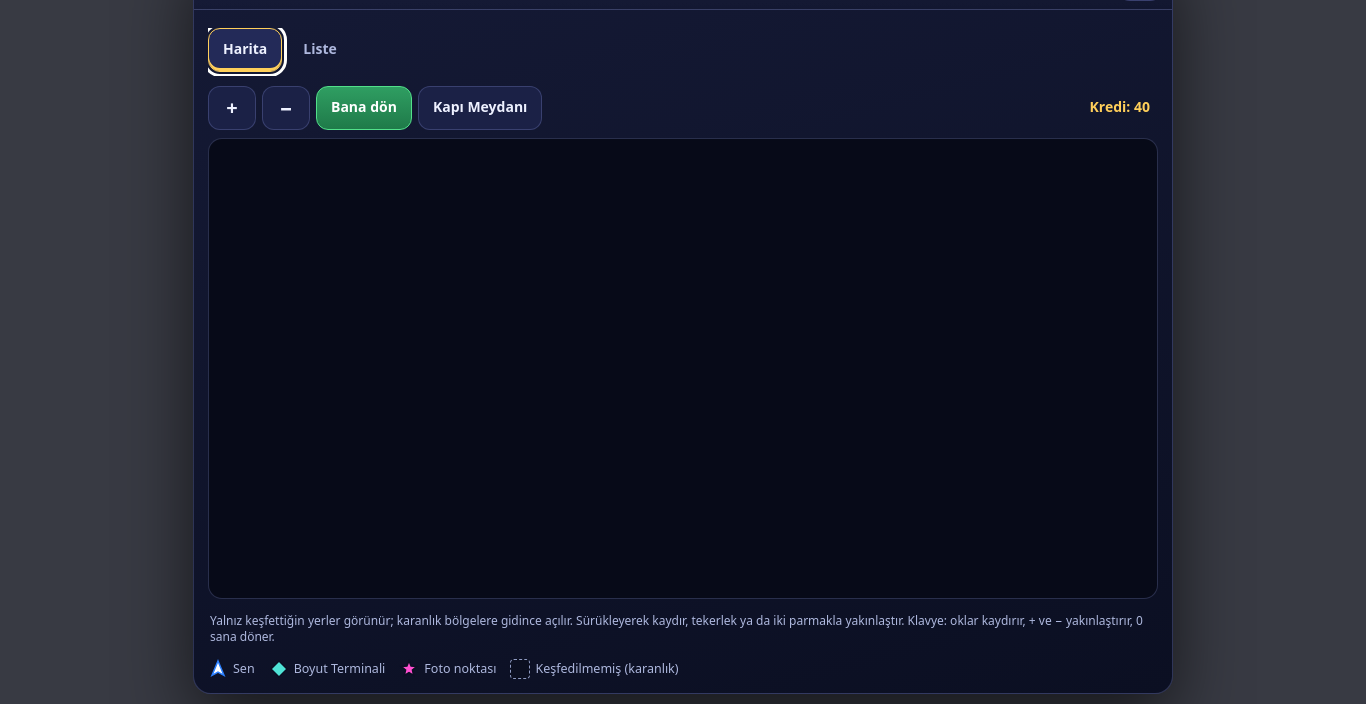
Scenario: CityMap: liste eşdeğeri ve hızlı seyahat › Liste: keşfedilen yer seçilince haritaya geçer ve seçili kart (yön + uzaklık) görünür
The width and height of the screenshot is (1366, 704).
Click the tab "Liste". click: (320, 50)
box: [288,28,352,72]
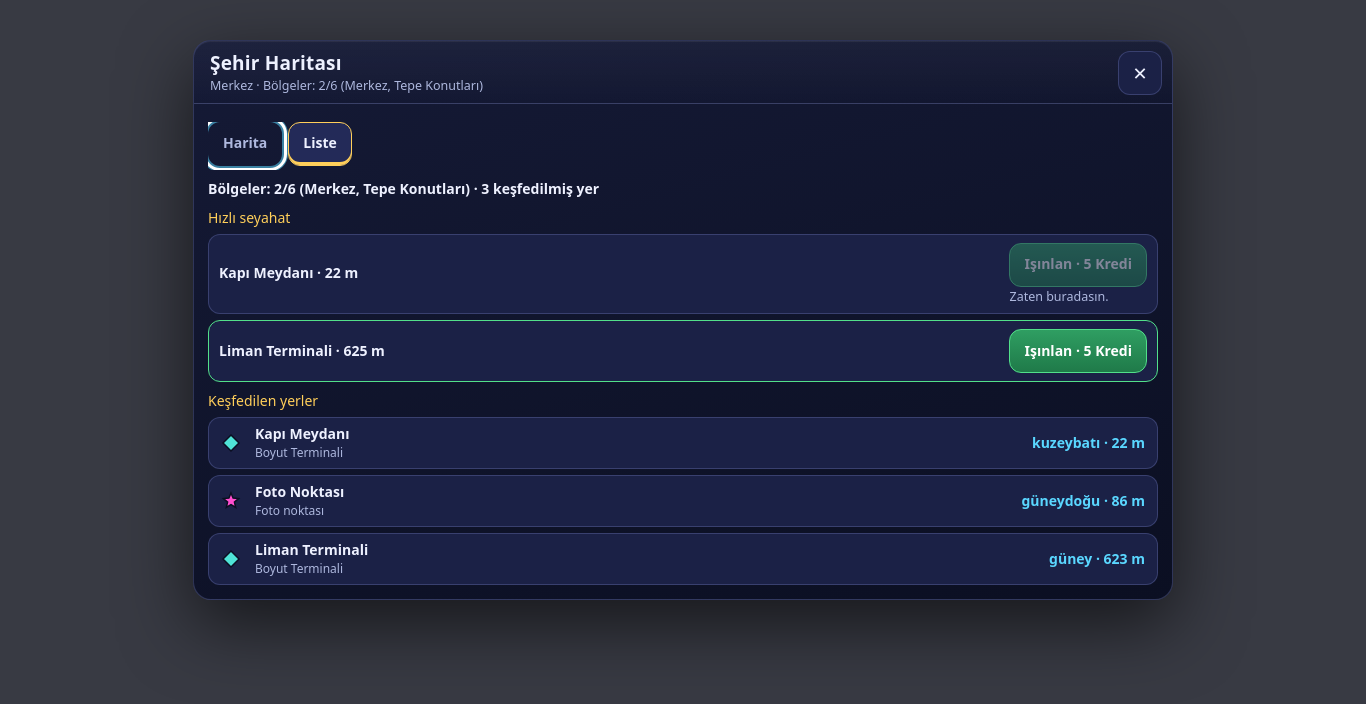
Click the button with test id "city-place-foto:5". click: (300, 491)
box: [208,475,1158,527]
(page scrolled)
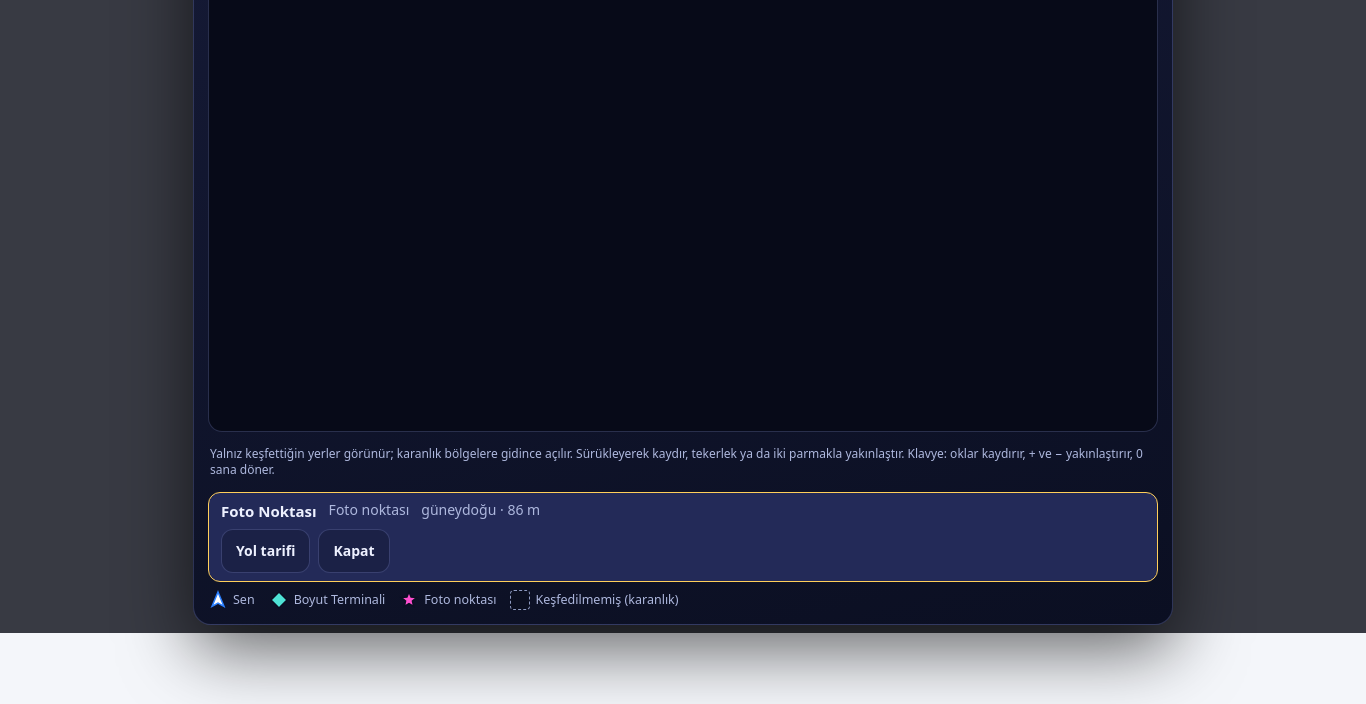
Expected: the element with test id "city-map-selected" shows "Foto Noktası", [221,501,317,521]
Expected: the element with test id "city-map-selected" reads "Foto Noktası Foto noktası güneydoğu · 86 m Yol tarifi Kapat", [421,500,496,519]
Expected: the button "Işınlan" is gone
